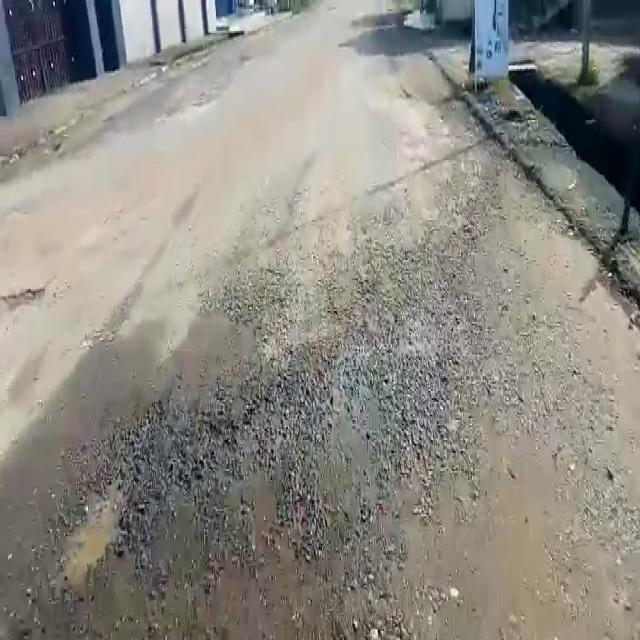Pothole: (58, 474, 126, 592)
